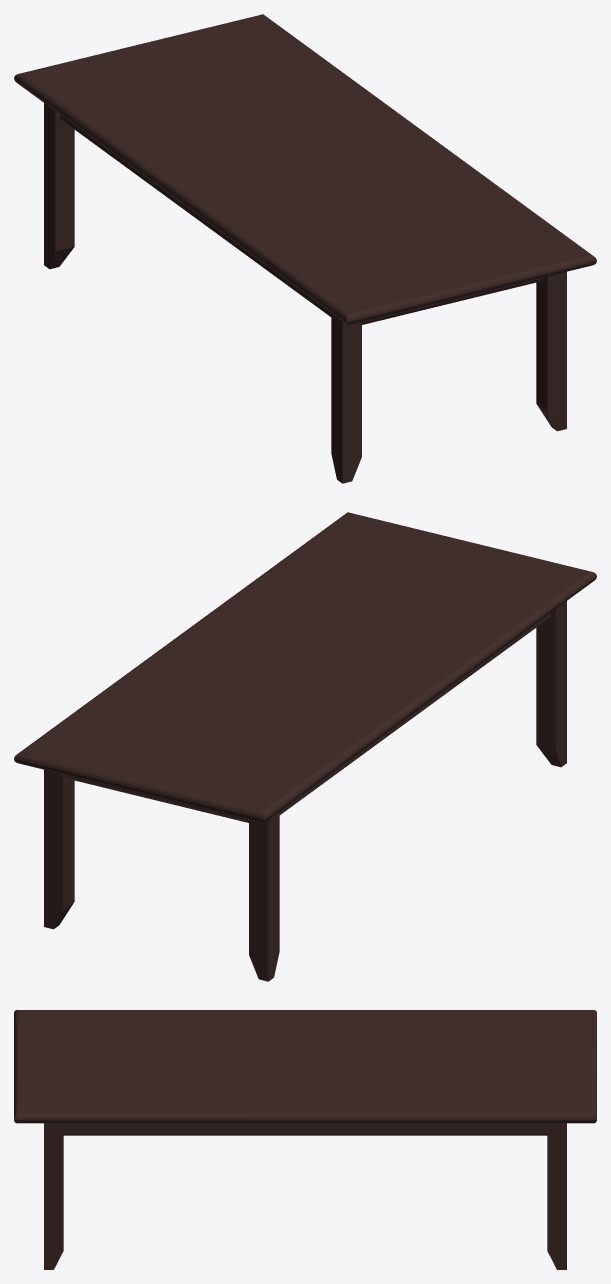
Rendered from GrandeTable_46.fbx.
The picture shows the model from 3 angles, top to bottom: view 1: azimuth 30°, elevation 25°; view 2: azimuth 150°, elevation 25°; view 3: azimuth 270°, elevation 25°; orthographic projection. The views are drawn at different scales.
Visible parts, largest first — view 1: pCube89, pCube90; view 2: pCube89, pCube90; view 3: pCube89, pCube90.
Part boxes in pixels (bbox=[...]): pCube89: bbox=[14, 14, 596, 324]; pCube90: bbox=[44, 103, 566, 483]; pCube89: bbox=[14, 512, 596, 822]; pCube90: bbox=[44, 601, 566, 981]; pCube89: bbox=[14, 1010, 596, 1135]; pCube90: bbox=[44, 1123, 566, 1269].
Size of the model in its own units: 56.89 by 39.8 by 131.
